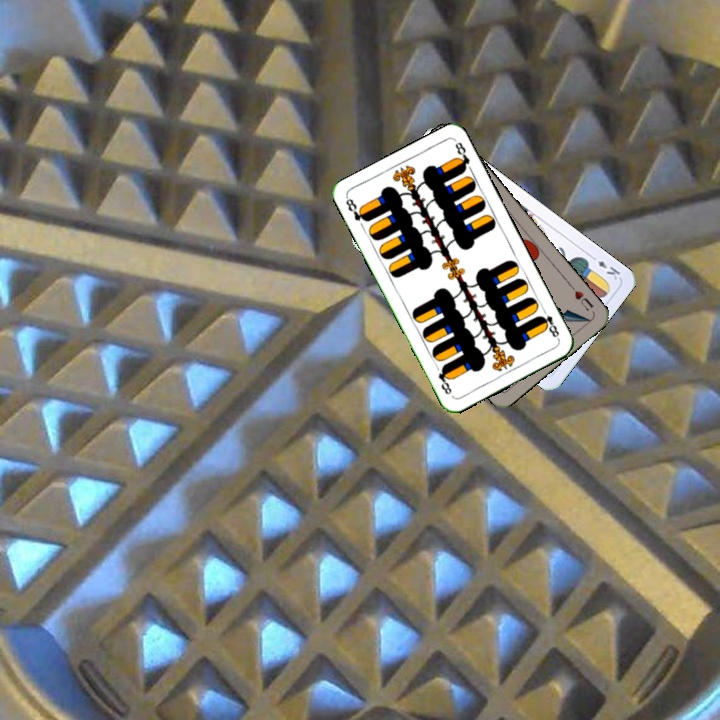E8: (535, 304, 562, 342), (342, 194, 371, 224)
EK: (586, 251, 623, 282)
HU: (566, 281, 596, 313)
